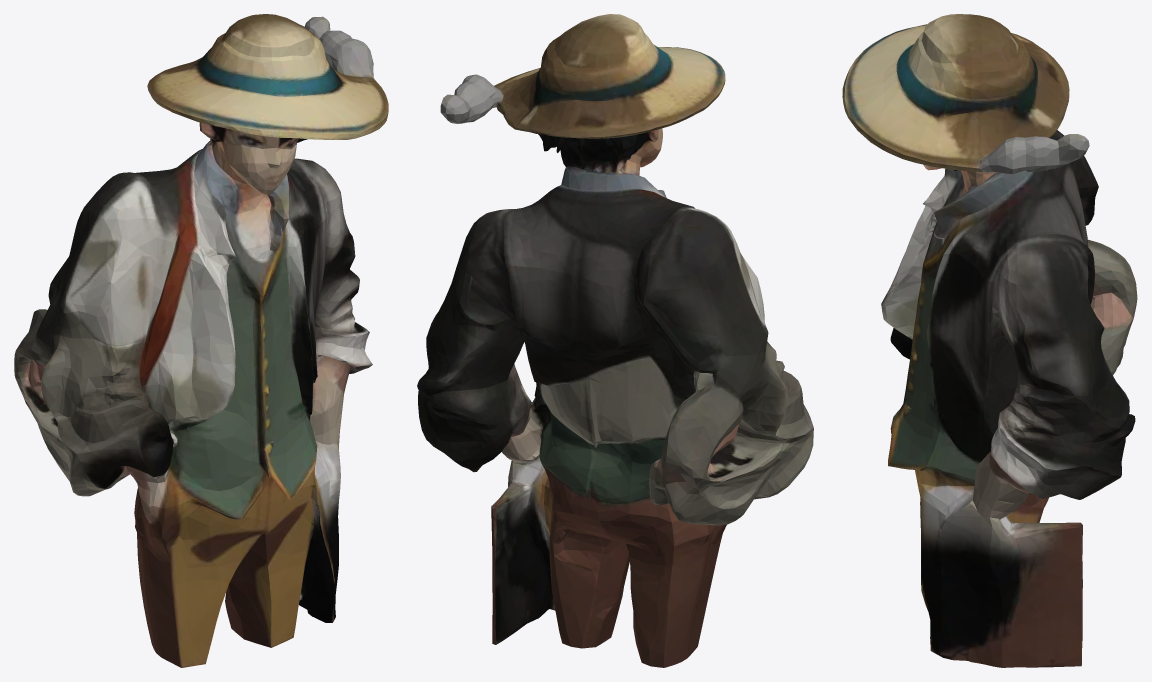
File: anime_modern_merchant.glb
The picture shows the model from 3 angles, left to right: view 1: azimuth 30°, elevation 25°; view 2: azimuth 150°, elevation 25°; view 3: azimuth 270°, elevation 25°; orthographic projection. The views are drawn at different scales.
Visible parts, largest first — view 1: geometry_0; view 2: geometry_0; view 3: geometry_0.
Part boxes in pixels (x1,y1,x2,y2): geometry_0: (14, 14, 388, 667); geometry_0: (417, 14, 813, 667); geometry_0: (842, 14, 1137, 667).
Bounding box in the file's own units: 0.5884 × 1 × 0.4262.
Materials: 1 (1 with a texture image).
